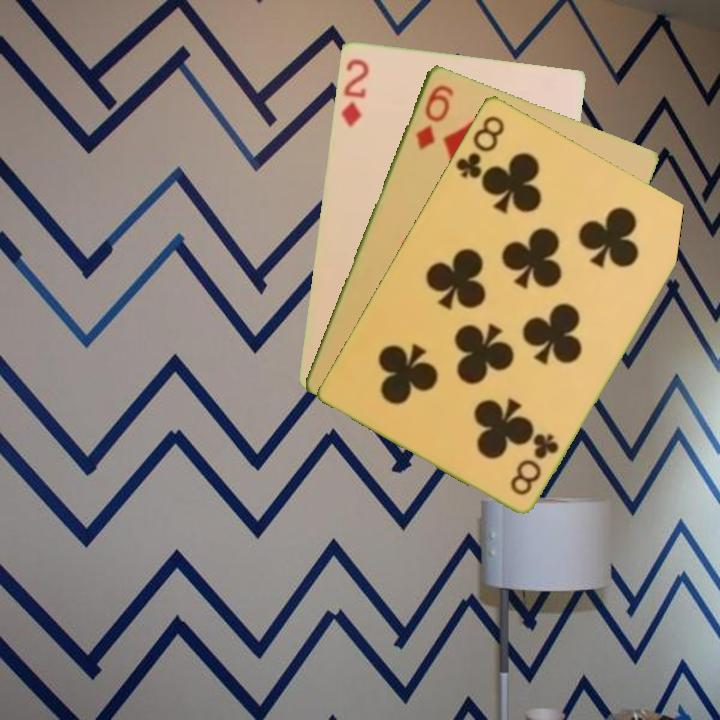2d: (337, 54, 372, 129)
6d: (412, 80, 456, 153)
8c: (451, 111, 508, 181), (506, 429, 562, 498)
